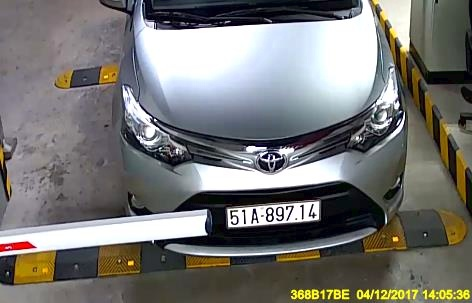plate: (225, 198, 324, 231)
